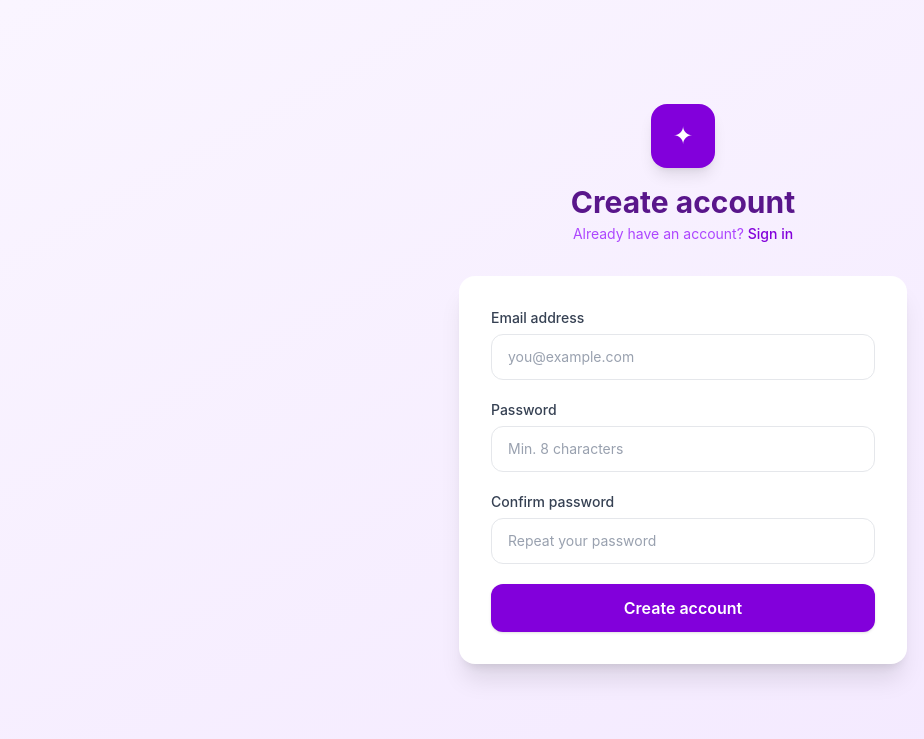
it: SignupPage › shows the first validation message when signup returns Devise/Rails-style errors
In the field labelled "Email address": x=683, y=357 [491, 334, 875, 380], type "taken@example.com"
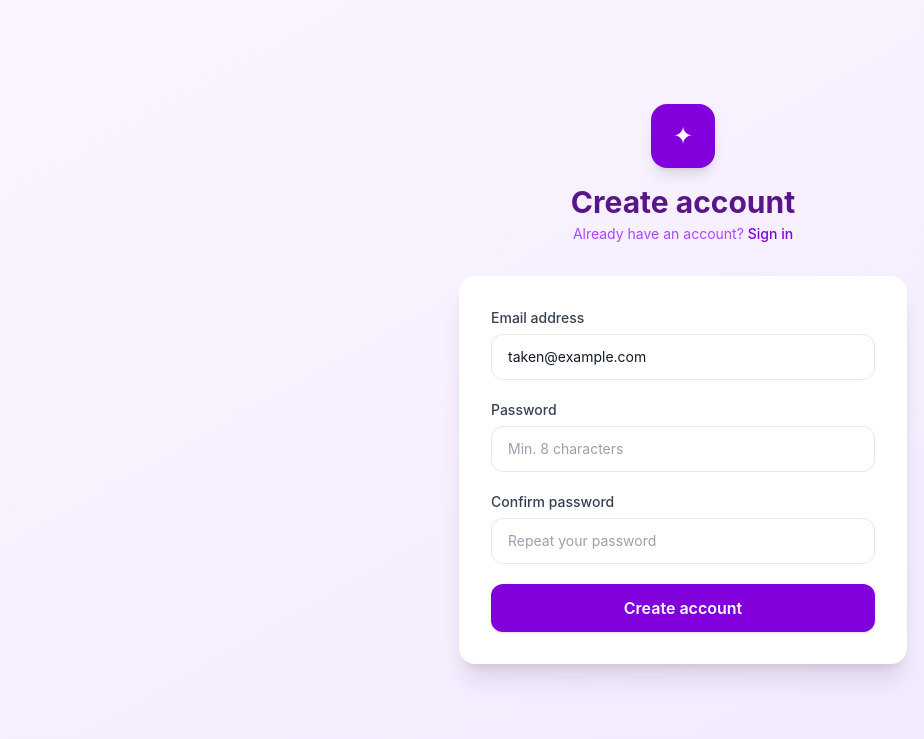
In the password field labelled "Password": x=683, y=449 [491, 426, 875, 472], type "password123"
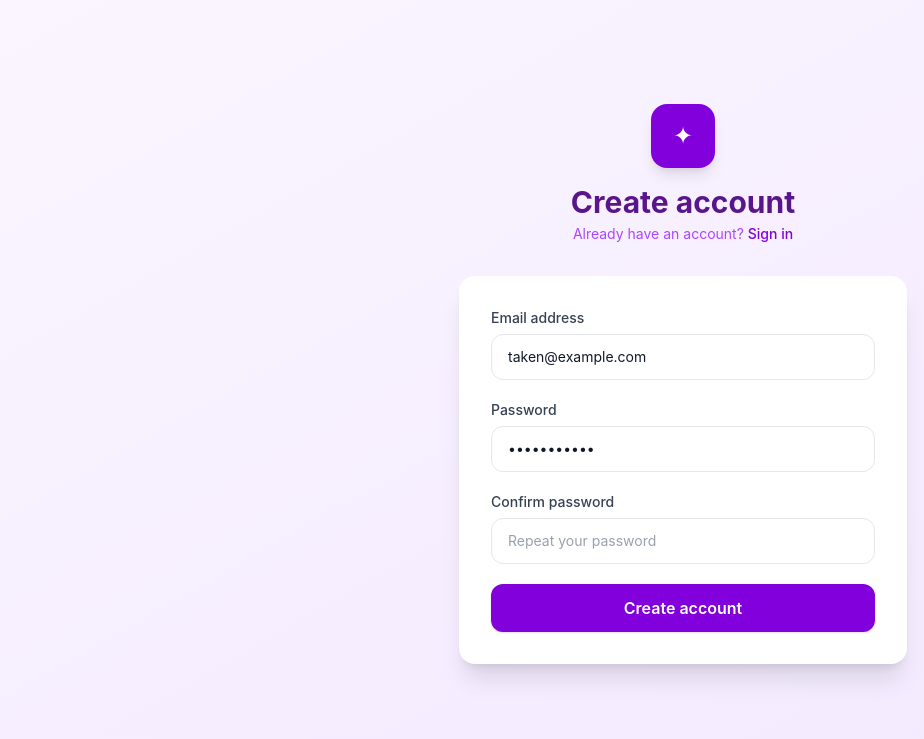
In the password field labelled "Confirm password": x=683, y=541 [491, 518, 875, 564], type "password123"
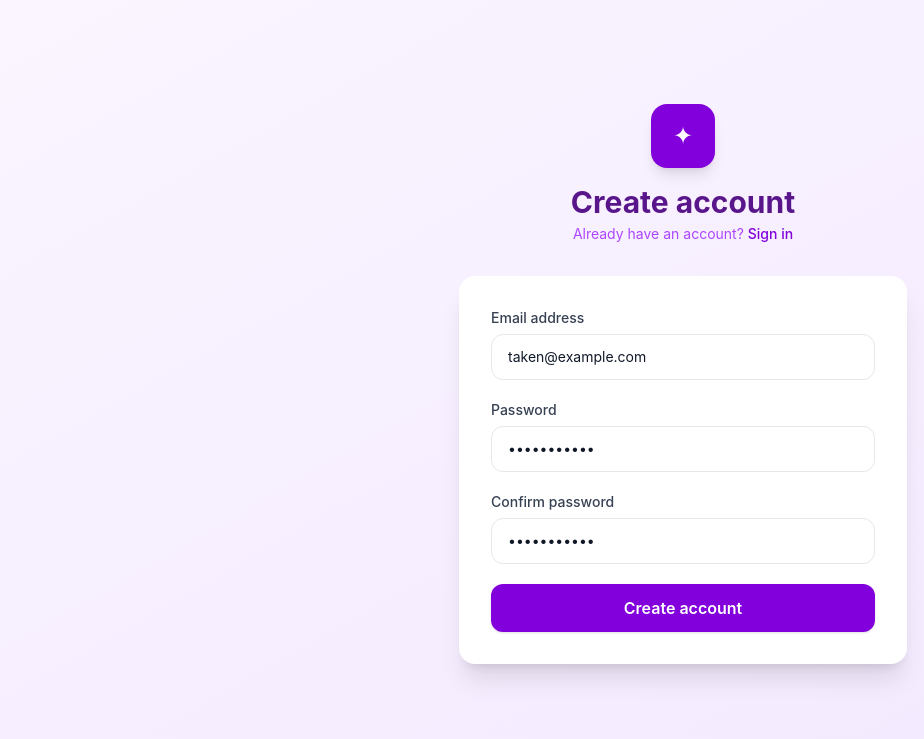
Click the button "Create account": x=683, y=608 [491, 584, 875, 632]
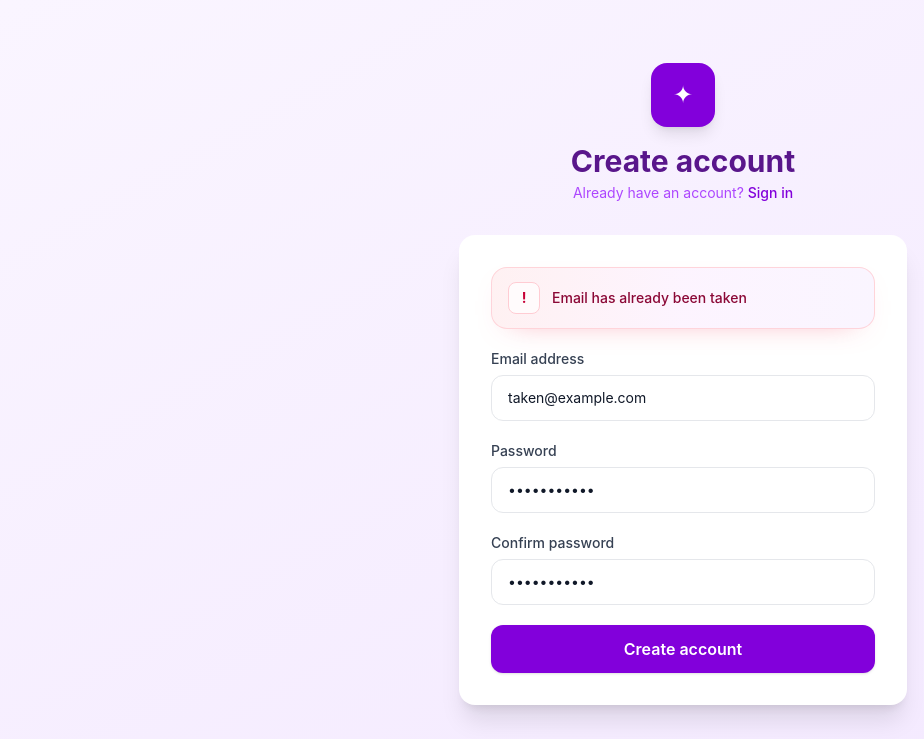
Result: the text "Email has already been taken" is shown at [552, 288, 747, 308]
